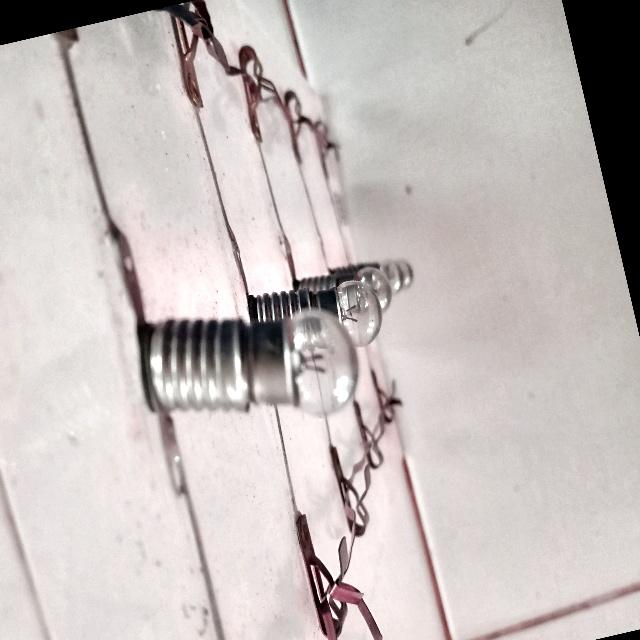Set of Resistors and Bulbs: (61, 0, 514, 640)
